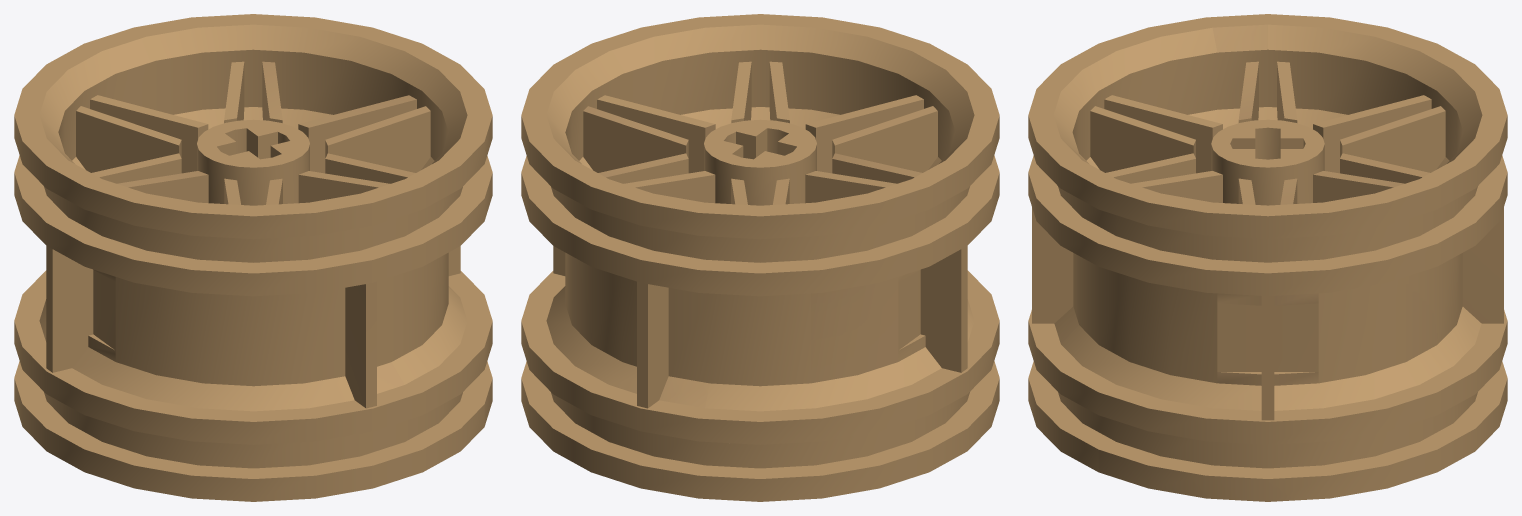
The model's file is boss_one_part.obj.
3 renders of one model, left to right at view 1: azimuth 30°, elevation 25°; view 2: azimuth 150°, elevation 25°; view 3: azimuth 270°, elevation 25°, orthographic.
Parts seen in each view (by area): view 1: Inner-Node-boss__1_dot_io-33.001; view 2: Inner-Node-boss__1_dot_io-33.001; view 3: Inner-Node-boss__1_dot_io-33.001.
Boxes of the visible parts, x1,y1,x2,y2 form: Inner-Node-boss__1_dot_io-33.001: (14, 14, 492, 501); Inner-Node-boss__1_dot_io-33.001: (521, 14, 999, 501); Inner-Node-boss__1_dot_io-33.001: (1028, 14, 1507, 501).
Size of the model in its own units: 0.7424 by 0.4893 by 0.7437.
1 material, 1 textured.
